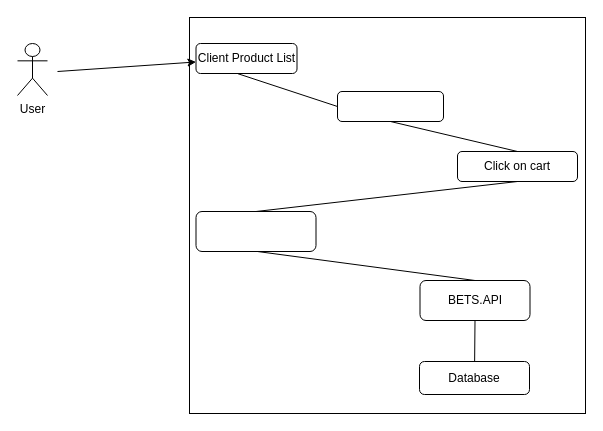
The diagram is 603 pixels wide and 431 high, and some of its shapes have lost their labels. The centre of each missing label's shape, as x and y in pixels:
"Select Products" goes at point 390,106.
"Shopping cart" goes at point 255,231.
